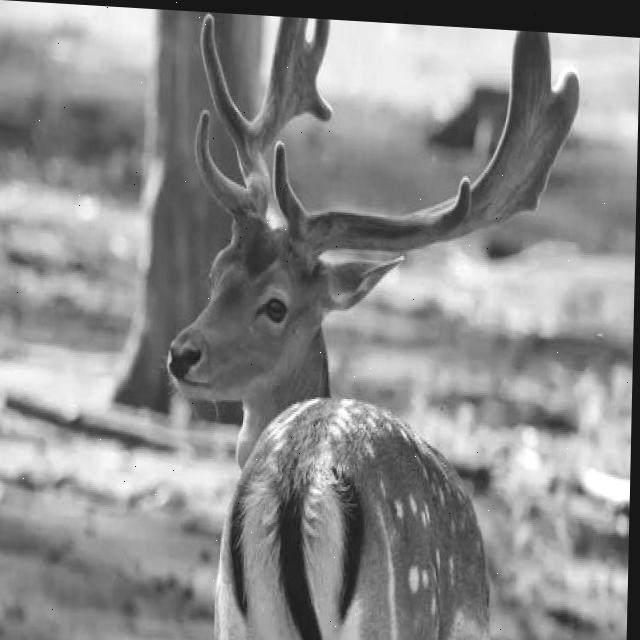Deer: (151, 130, 489, 623)
